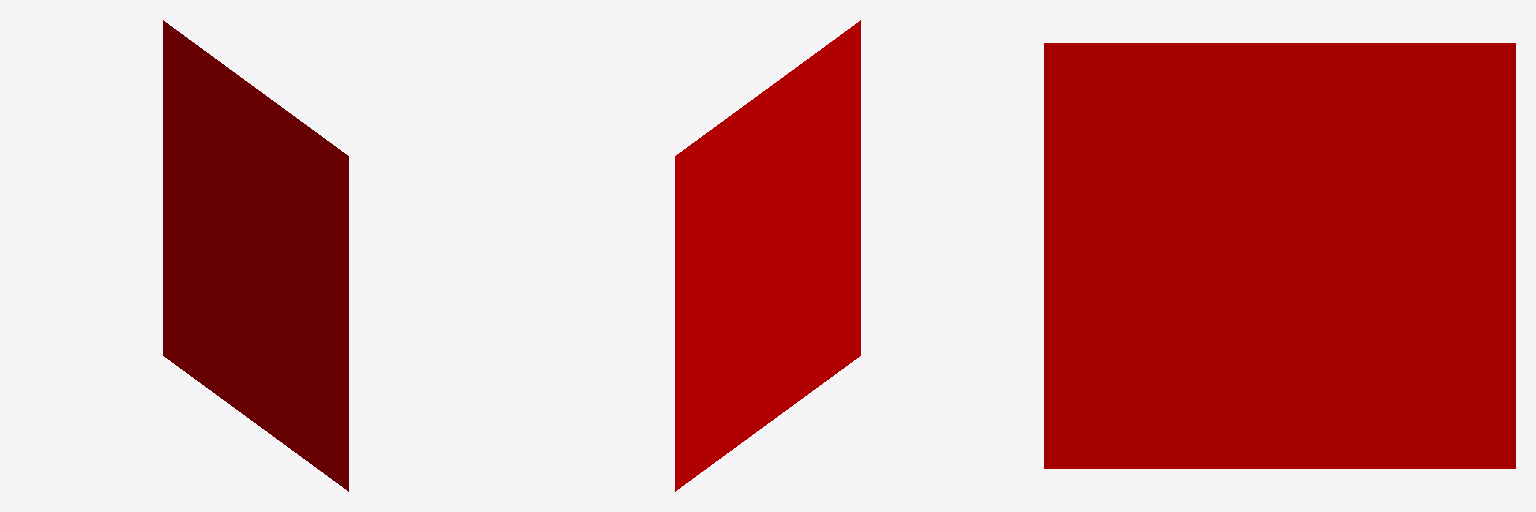
robot.urdf — test_material:
<?xml version="1.0" encoding="UTF-8"?>
<robot name="test_material">
  <link name="base">
    <visual>
      <geometry>
        <box size="0.001 4.0 4.0 "/>
      </geometry>
      <material>
        <color rgba="1.0 0. 0. 1.0"/>
      </material>
    </visual>
  </link>
</robot>

--- What the picture shows (computed from the rendered views, not written in the file) ---
The picture shows the robot from 3 angles, left to right: view 1: azimuth 30°, elevation 25°; view 2: azimuth 150°, elevation 25°; view 3: azimuth 270°, elevation 25°; orthographic projection.
Model test_material with 1 links and 0 joints (none), rooted at base, posed all joints at 0.
Visible links, largest first — view 1: base; view 2: base; view 3: base.
Boxes of the visible links, x1,y1,x2,y2 form: base: [163, 20, 348, 491]; base: [675, 20, 860, 491]; base: [1044, 43, 1515, 468].
Size in the robot's own frame: 0.001 by 4 by 4 metres.
Geometry: primitives only (box / cylinder / sphere), no mesh files.